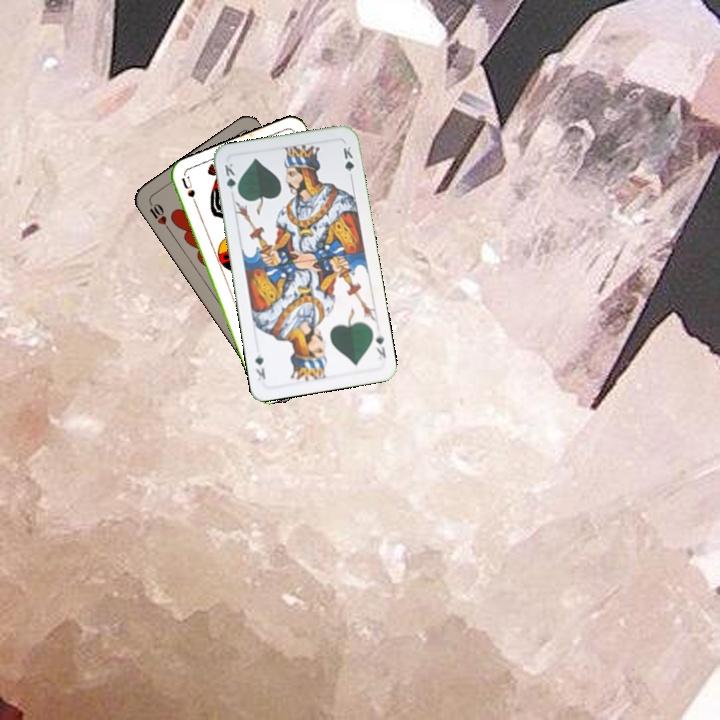GK: (220, 159, 241, 198), (371, 329, 389, 362)
H10: (145, 197, 172, 233)
SU: (177, 173, 202, 213)
